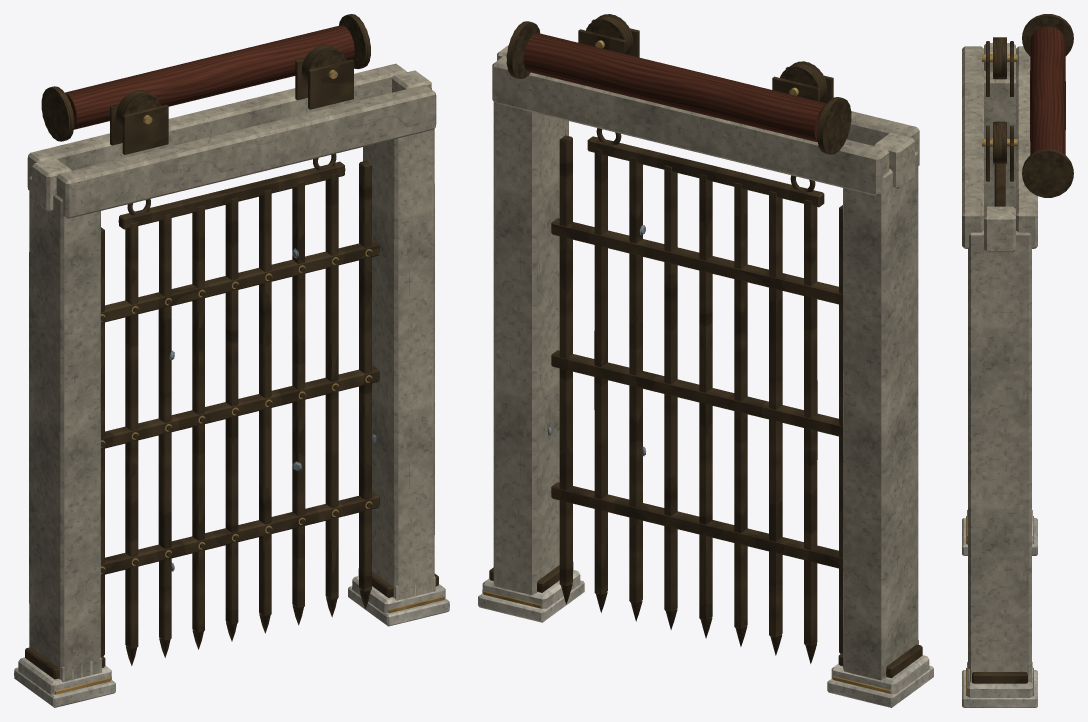
The picture shows the model from 3 angles, left to right: view 1: azimuth 30°, elevation 25°; view 2: azimuth 150°, elevation 25°; view 3: azimuth 270°, elevation 25°; orthographic projection. The views are drawn at different scales.
Visible parts, largest first — view 1: honed-limestone, dark-patinated-bronze-fittings (×2), quarter-sawn-timber, carved-limestone-mouldings, polished-bronze-bearing; view 2: honed-limestone, dark-patinated-bronze-fittings (×2), quarter-sawn-timber, carved-limestone-mouldings; view 3: honed-limestone, dark-patinated-bronze-fittings (×2), quarter-sawn-timber, carved-limestone-mouldings, polished-bronze-bearing.
Boxes of the visible parts, box(x1,y1,x2,y2) form: honed-limestone: box(27, 63, 436, 681); dark-patinated-bronze-fittings (×2): box(25, 14, 438, 679); quarter-sawn-timber: box(65, 25, 354, 129); carved-limestone-mouldings: box(14, 576, 449, 707); polished-bronze-bearing: box(101, 249, 372, 573); honed-limestone: box(492, 45, 919, 680); dark-patinated-bronze-fittings (×2): box(489, 14, 922, 678); quarter-sawn-timber: box(523, 33, 826, 142); carved-limestone-mouldings: box(478, 570, 933, 707); honed-limestone: box(962, 43, 1037, 681); dark-patinated-bronze-fittings (×2): box(972, 14, 1073, 683); quarter-sawn-timber: box(1030, 26, 1065, 154); carved-limestone-mouldings: box(962, 510, 1037, 707); polished-bronze-bearing: box(982, 54, 1017, 146).
Size of the model in its own units: 2.14 by 2.96 by 0.56.
7 materials, 6 textured.
